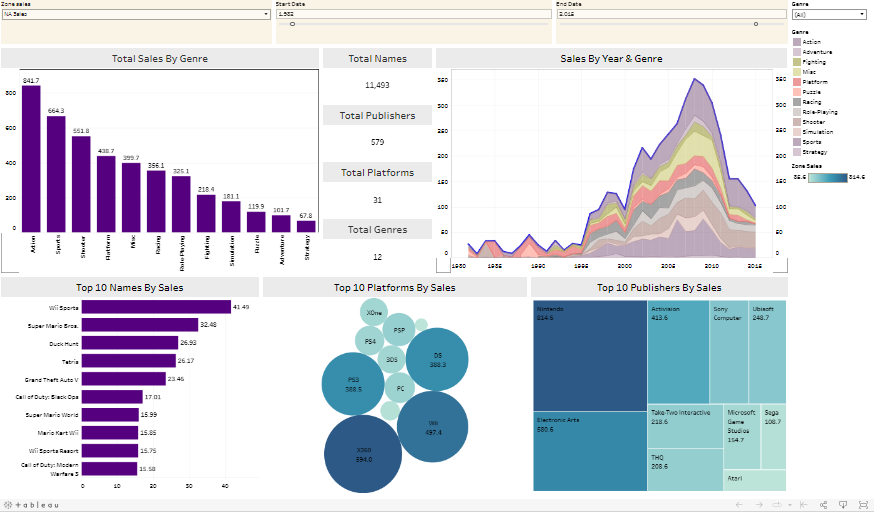

What the dashboard file says about the page in this screenshot:
{"tool":"tableau","page":{"name":"Total VG Sales","canvas":[1757,1011],"ordinal":0},"visuals":[{"type":"parameter","param":"[Parameters].[Parameter 1]","box":[8,8,548.7,96.7]},{"type":"parameter","param":"[Parameters].[Parameter 2]","box":[556.7,8,561.5,96.7]},{"type":"parameter","param":"[Parameters].[Parameter 3]","box":[1118.2,8,470.8,96.7]},{"type":"filter","title":"Sales By Year & Genre","param":"[federated.1f6t40q0u97mj2177nml51uhbaut].[none:Genre:nk]","box":[1589,8,160,61]},{"type":"legend","title":"Sales By Year & Genre","param":"[federated.1f6t40q0u97mj2177nml51uhbaut].[none:Genre:nk]","box":[1589,69,160,282]},{"type":"worksheet","title":"Total Sales By Genre","mark":"Automatic","rows":["Calculation_1022317137012191233"],"cols":["Genre"],"box":[8,104.7,644,458.3]},{"type":"worksheet","title":"Total Names","mark":"Automatic","box":[652,104.7,226,114.6]},{"type":"worksheet","title":"Sales By Year & Genre","mark":"Automatic","rows":["Calculation_1022317137012191233","Calculation_1022317137012191233"],"cols":["Year"],"box":[878,104.7,711,458.3]},{"type":"worksheet","title":"Total Publishers","mark":"Automatic","box":[652,219.3,226,114.6]},{"type":"worksheet","title":"Total Platforms","mark":"Automatic","box":[652,333.9,226,114.6]},{"type":"legend","title":"Top 10 Publishers By Sales","param":"[federated.1f6t40q0u97mj2177nml51uhbaut].[sum:Calculation_1022317137012191233:qk","box":[1589,351,160,73]},{"type":"worksheet","title":"Total Genres","mark":"Automatic","box":[652,448.4,226,114.6]},{"type":"worksheet","title":"Top 10 Names By Sales","mark":"Automatic","rows":["Name"],"cols":["Calculation_1022317137012191233"],"box":[8,563,523,440]},{"type":"worksheet","title":"Top 10 Platforms By Sales","mark":"Circle","box":[531,563,537,440]},{"type":"worksheet","title":"Top 10 Publishers By Sales","mark":"Automatic","box":[1068,563,521,440]}]}

Visuals, with their boxes on the page's 1757x1011 design canvas (x1, y1, x2, y2). These are canvas units, not pixel positions in the 881x517 screenshot, which may show the page scaled, cropped or inside an application window:
parameter: BBox(8, 8, 557, 105)
parameter: BBox(557, 8, 1118, 105)
parameter: BBox(1118, 8, 1589, 105)
"Sales By Year & Genre" filter: BBox(1589, 8, 1749, 69)
"Sales By Year & Genre" legend: BBox(1589, 69, 1749, 351)
"Total Sales By Genre" worksheet: BBox(8, 105, 652, 563)
"Total Names" worksheet: BBox(652, 105, 878, 219)
"Sales By Year & Genre" worksheet: BBox(878, 105, 1589, 563)
"Total Publishers" worksheet: BBox(652, 219, 878, 334)
"Total Platforms" worksheet: BBox(652, 334, 878, 448)
"Top 10 Publishers By Sales" legend: BBox(1589, 351, 1749, 424)
"Total Genres" worksheet: BBox(652, 448, 878, 563)
"Top 10 Names By Sales" worksheet: BBox(8, 563, 531, 1003)
"Top 10 Platforms By Sales" worksheet (Circle marks): BBox(531, 563, 1068, 1003)
"Top 10 Publishers By Sales" worksheet: BBox(1068, 563, 1589, 1003)
